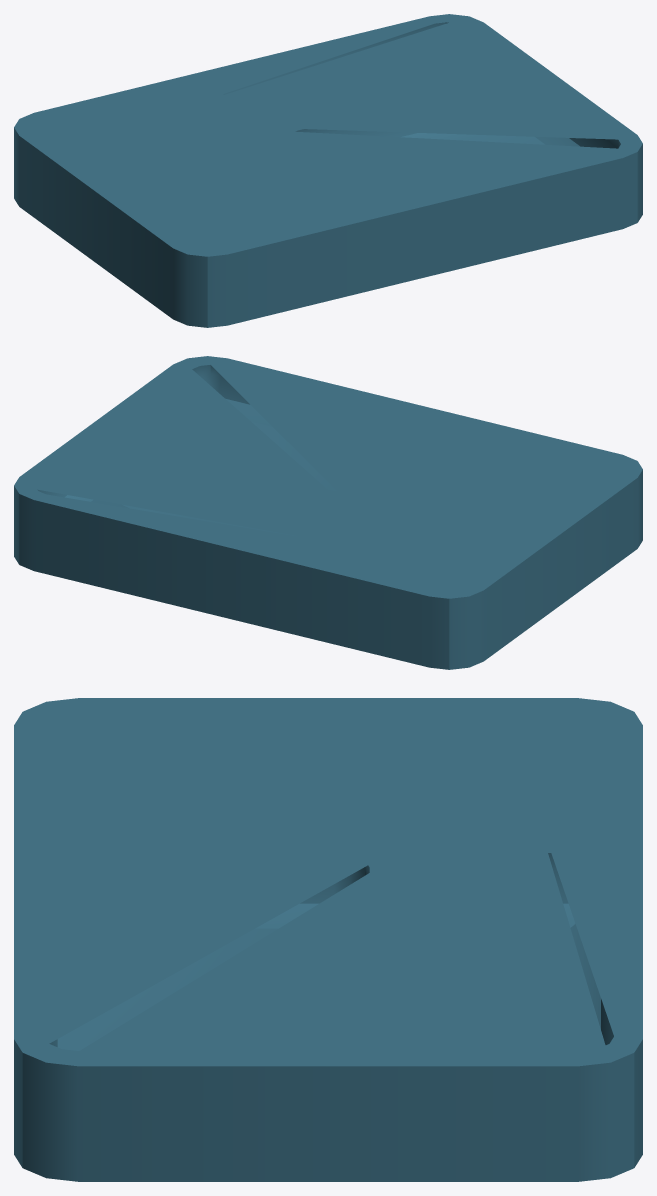
The model's file is Lunch Box.fbx.
3 views of the same model, one above another, from view 1: azimuth 30°, elevation 25°; view 2: azimuth 150°, elevation 25°; view 3: azimuth 270°, elevation 25° (orthographic). The views are drawn at different scales.
Parts seen in each view (by area): view 1: Cube.042; view 2: Cube.042; view 3: Cube.042.
Boxes of the visible parts, x1,y1,x2,y2 form: Cube.042: (14, 14, 642, 327); Cube.042: (14, 356, 642, 669); Cube.042: (14, 698, 642, 1181).
Size of the model in its own units: 133 by 19.51 by 96.24.
